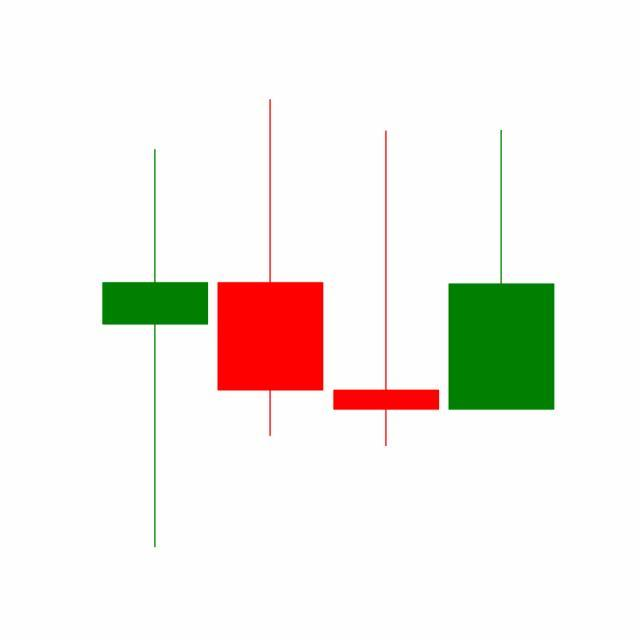Hanging Man: (329, 127, 445, 450)
